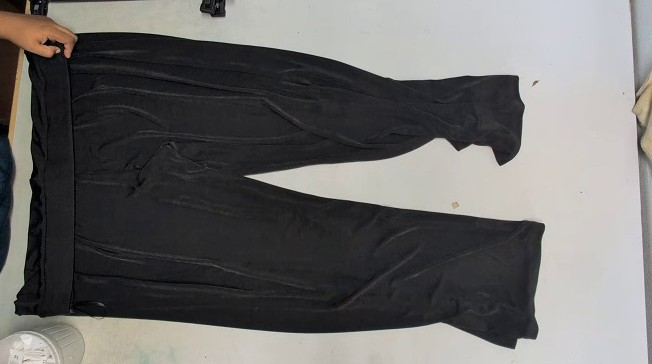TROUSER: (144, 24, 534, 334)
